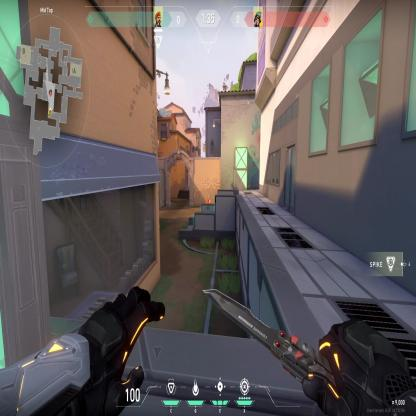enemy: (205, 194, 211, 204)
